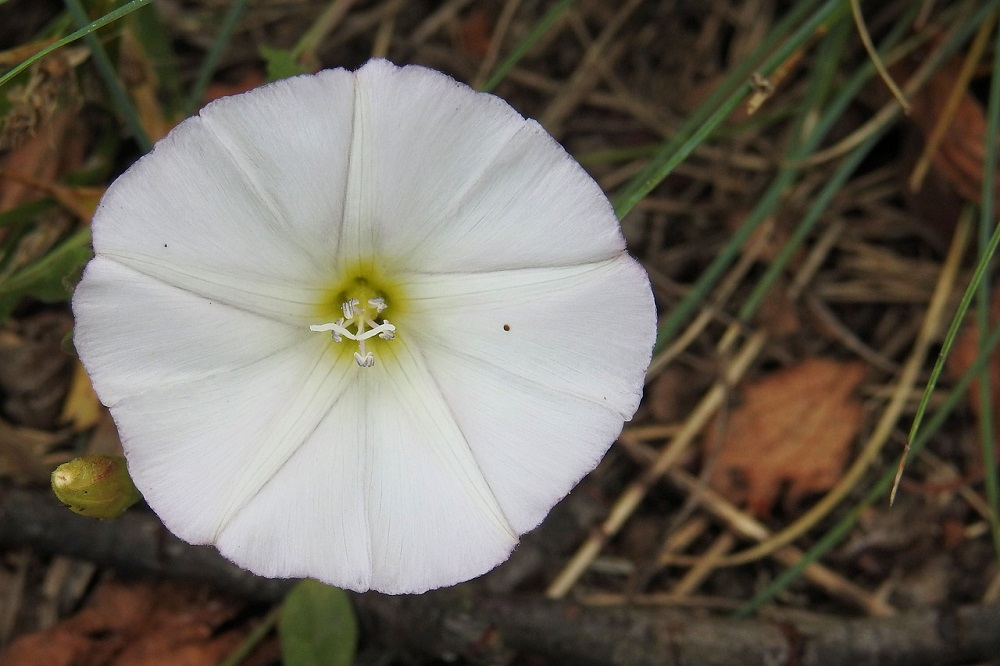haagwinde: (48, 45, 674, 610)
